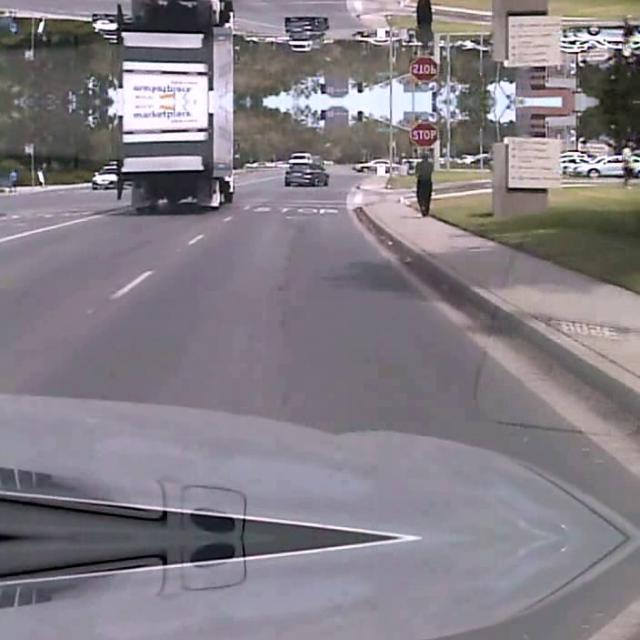stop: (409, 120, 436, 144), (409, 58, 436, 82)
